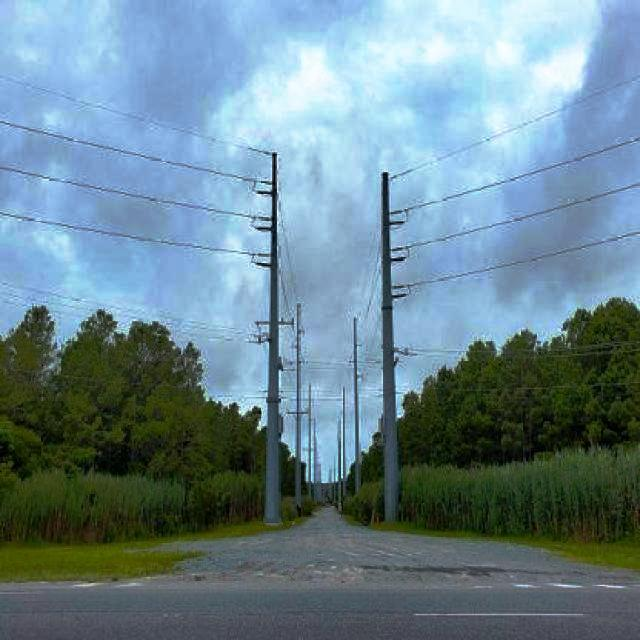poles: (225, 135, 297, 523), (360, 168, 420, 517)
wires: (0, 74, 249, 414), (399, 56, 638, 410)
